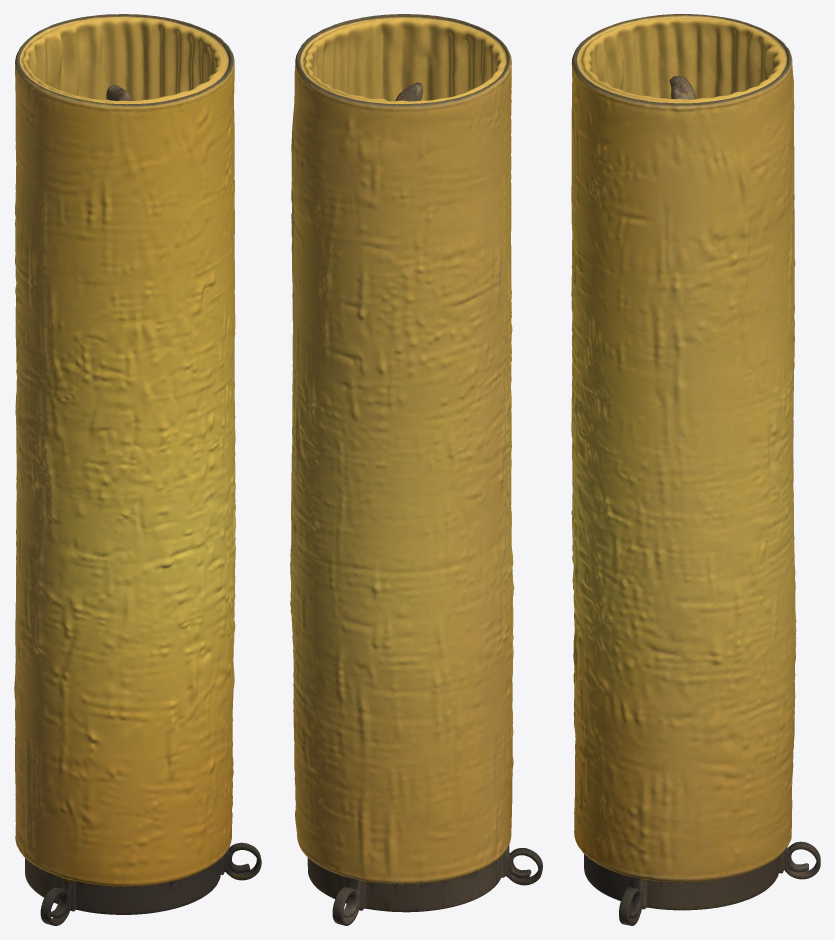
Rendered from cotton-fabric-floor-lamp-light.glb.
The picture shows the model from 3 angles, left to right: view 1: azimuth 30°, elevation 25°; view 2: azimuth 150°, elevation 25°; view 3: azimuth 270°, elevation 25°; orthographic projection.
Visible parts, largest first — view 1: mesh_node; view 2: mesh_node; view 3: mesh_node.
Part boxes in pixels (x1,y1,x2,y2): mesh_node: [14, 14, 261, 925]; mesh_node: [290, 14, 542, 925]; mesh_node: [571, 14, 820, 925].
Size of the model in its own units: 0.5323 by 1.9 by 0.525.
Materials: 1 (1 with a texture image).
